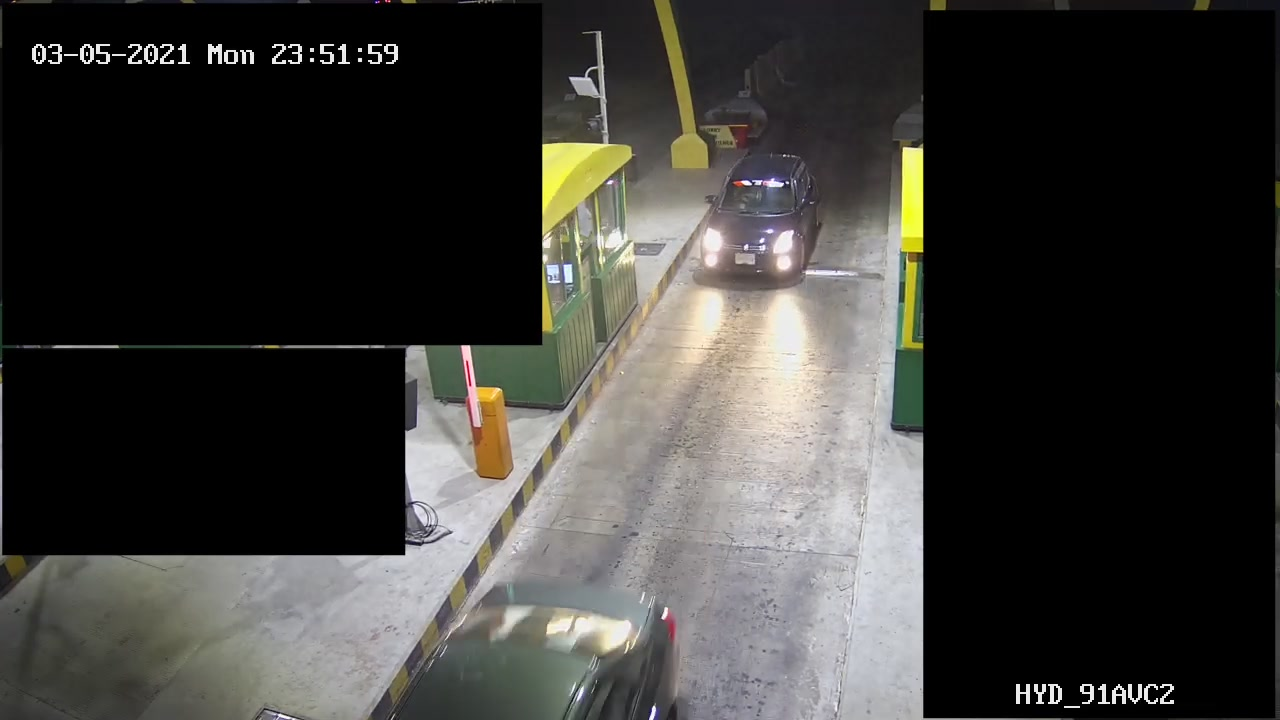F1: (683, 144, 833, 303)
